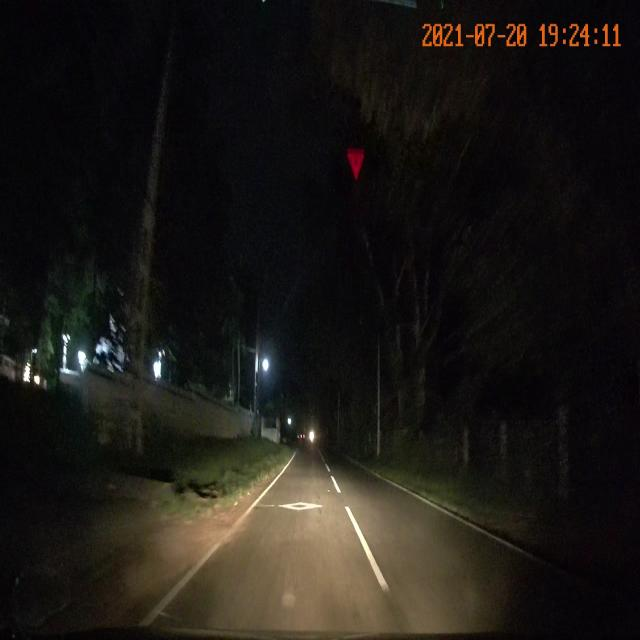diamond: (239, 490, 358, 520)
